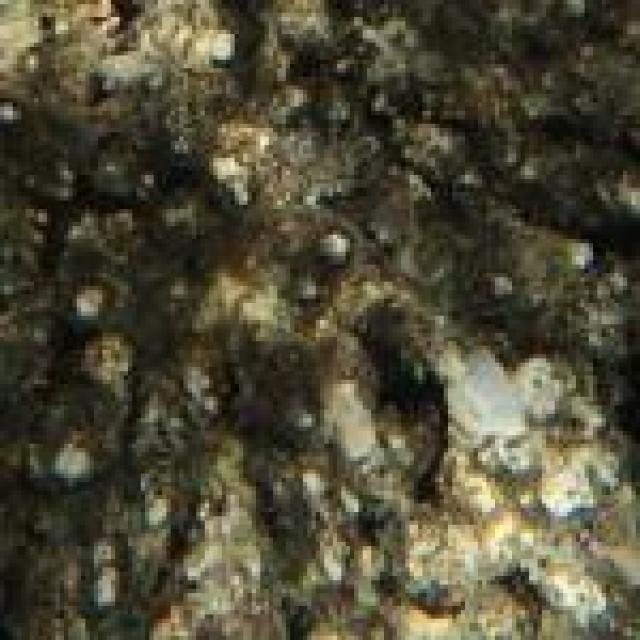Dead Coral: (0, 126, 221, 640), (368, 0, 639, 270)
